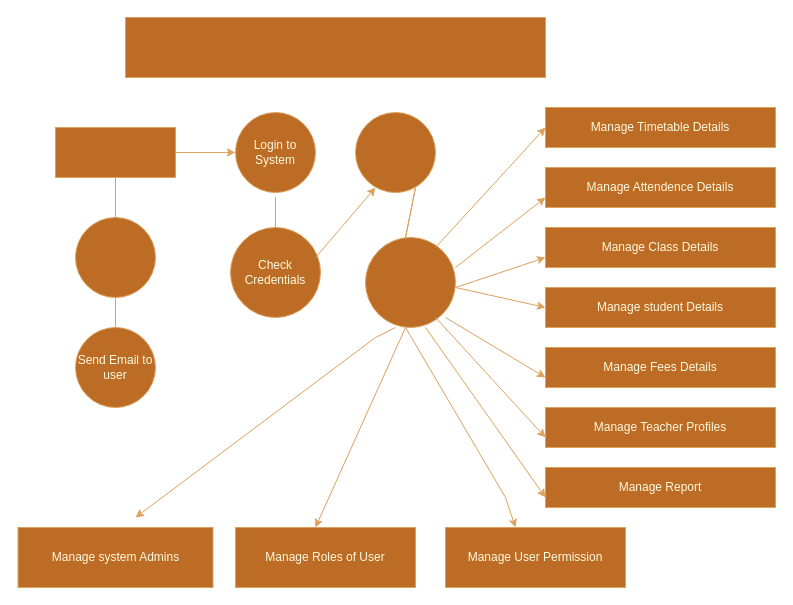
Some shapes in this 793 by 605 pixel diagram are drawn without their labels. Here are the shapes that lost their labels. From the top down, the centre of each, then its label:
At point 335,47: "Student Inforamation system".
At point 115,152: "Admin".
At point 395,152: "Check Roles of Access".
At point 115,257: "Forgot Password".
At point 410,282: "Manage Modules".
